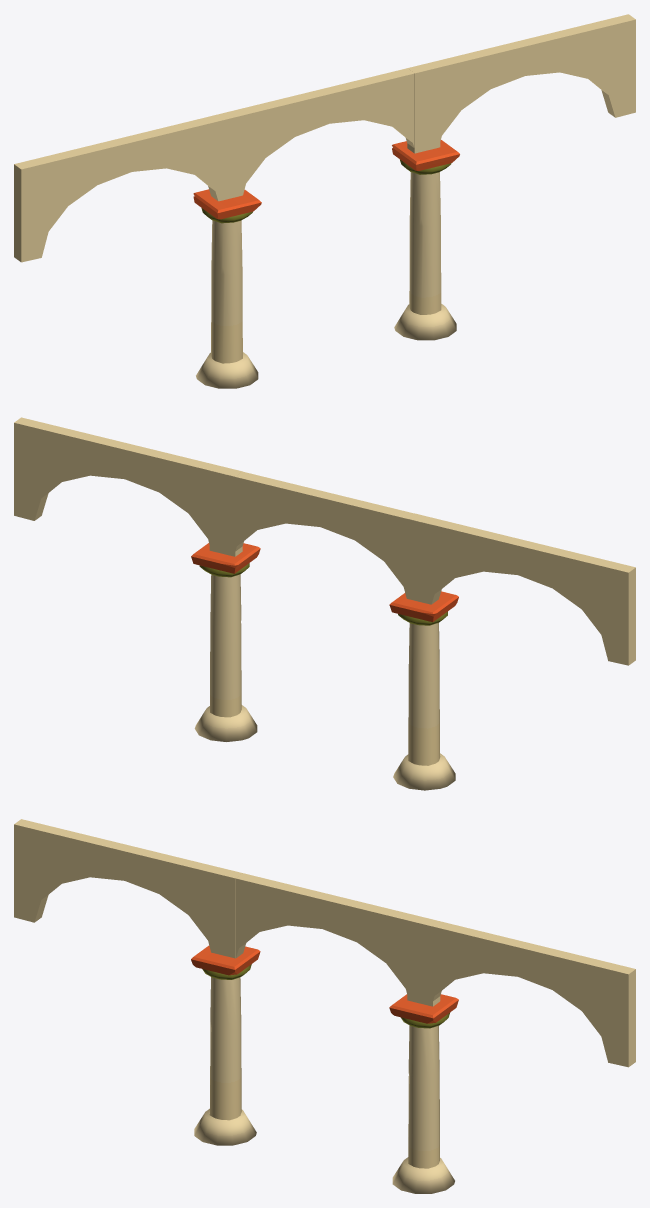
File: Arc_Column_2.fbx
The picture shows the model from 3 angles, top to bottom: view 1: azimuth 30°, elevation 25°; view 2: azimuth 150°, elevation 25°; view 3: azimuth 330°, elevation 25°; orthographic projection.
Visible parts, largest first — view 1: Arch_column_v2; view 2: Arch_column_v2; view 3: Arch_column_v2.
Part boxes in pixels (box(x1,y1,x2,y2)): Arch_column_v2: box(14, 14, 635, 388); Arch_column_v2: box(14, 417, 635, 790); Arch_column_v2: box(14, 819, 635, 1193).
Size of the model in its own units: 702 by 282 by 61.83.
1 material, 1 textured.
